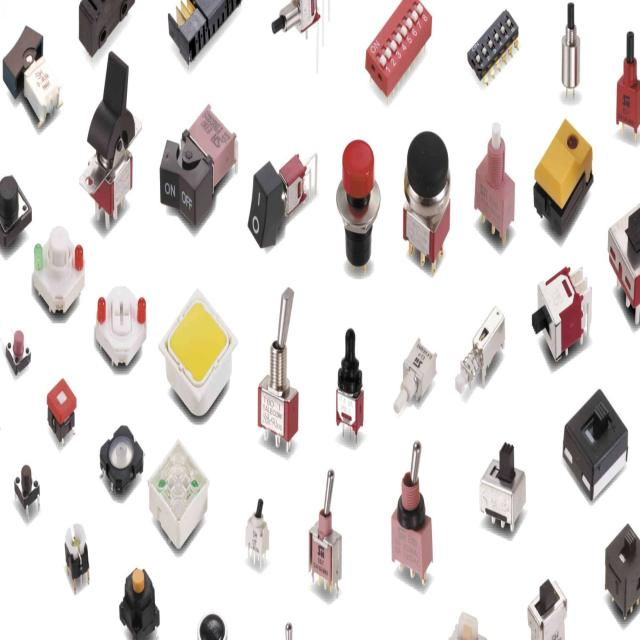Push button: (402, 131, 446, 277), (336, 137, 380, 275), (33, 225, 85, 315), (119, 567, 160, 640), (0, 172, 32, 248), (13, 463, 40, 520), (3, 329, 30, 378)
switch: (161, 281, 242, 429), (79, 50, 141, 230), (160, 103, 238, 233), (356, 1, 442, 94), (562, 390, 629, 500), (534, 116, 593, 240), (249, 147, 316, 252), (255, 287, 297, 452), (148, 439, 209, 549), (462, 5, 531, 96), (4, 25, 64, 127), (532, 264, 591, 363), (395, 442, 434, 586), (473, 122, 515, 251), (167, 0, 245, 69), (455, 306, 505, 393), (95, 284, 147, 366), (479, 441, 525, 531), (314, 468, 344, 598), (98, 418, 144, 500), (393, 338, 435, 425), (604, 524, 640, 620), (269, 0, 329, 55), (79, 1, 136, 58), (338, 330, 366, 440), (559, 5, 587, 106), (615, 30, 639, 140), (528, 576, 568, 640), (46, 377, 77, 446), (64, 522, 91, 596), (246, 498, 270, 571), (448, 612, 489, 640)
